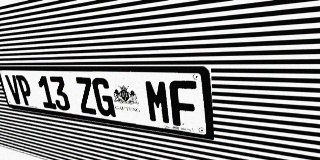1: (36, 76, 57, 109)
3: (49, 76, 71, 111)
F: (169, 80, 199, 129)
G: (91, 78, 116, 117)
M: (144, 79, 172, 125)
P: (15, 75, 35, 106)
V: (5, 75, 24, 105)
Z: (74, 77, 98, 115)
